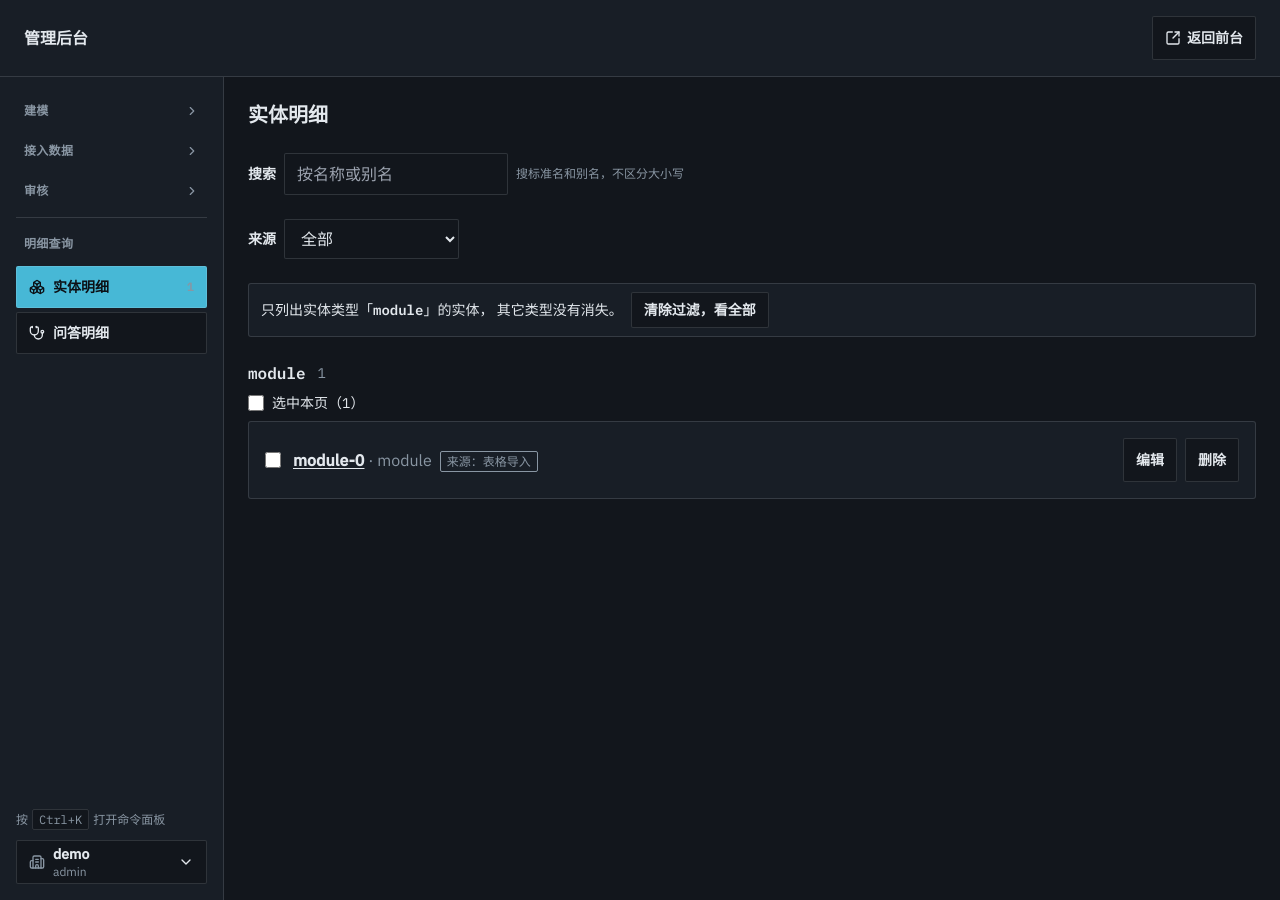
Test case: 实体明细读 URL 上的类型过滤 › 过滤生效时说清楚这是筛过的，并给一个退出口
Expected: the element with test id "term-type-filter-notice" shows "module", x1=373 y1=301 x2=423 y2=319
Click the button "清除过滤，看全部". click: [700, 310]
box: x1=631 y1=292 x2=769 y2=328
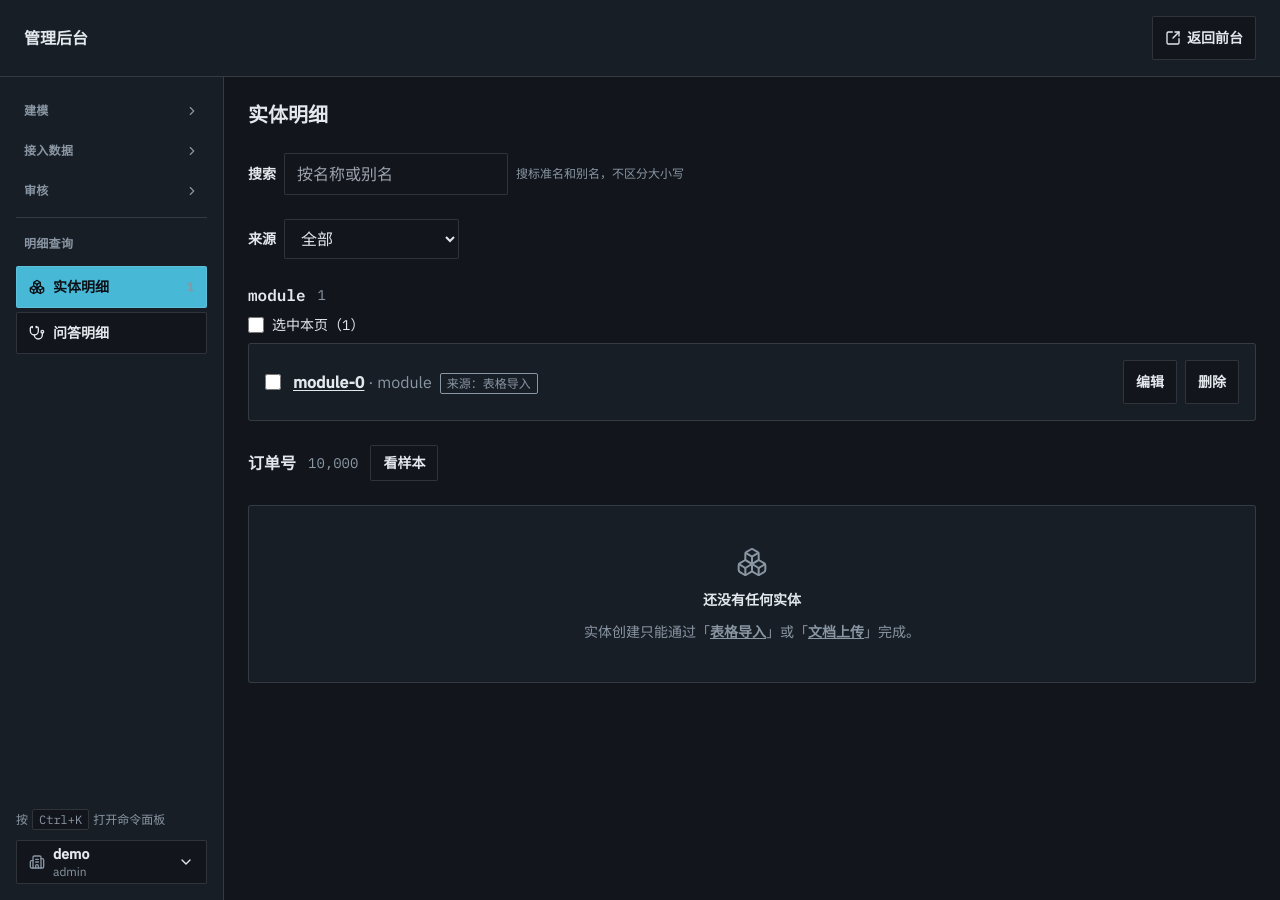
Now the element "订单号 10,000 看样本" is shown, box x1=248 y1=445 x2=438 y2=481
